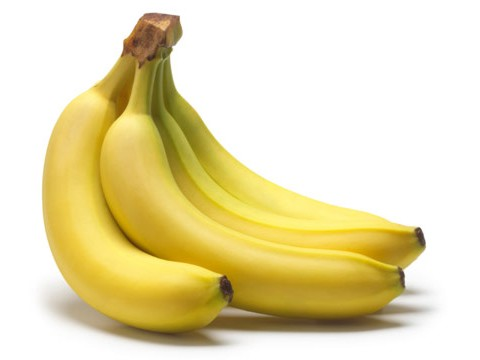banana: (39, 7, 436, 332)
